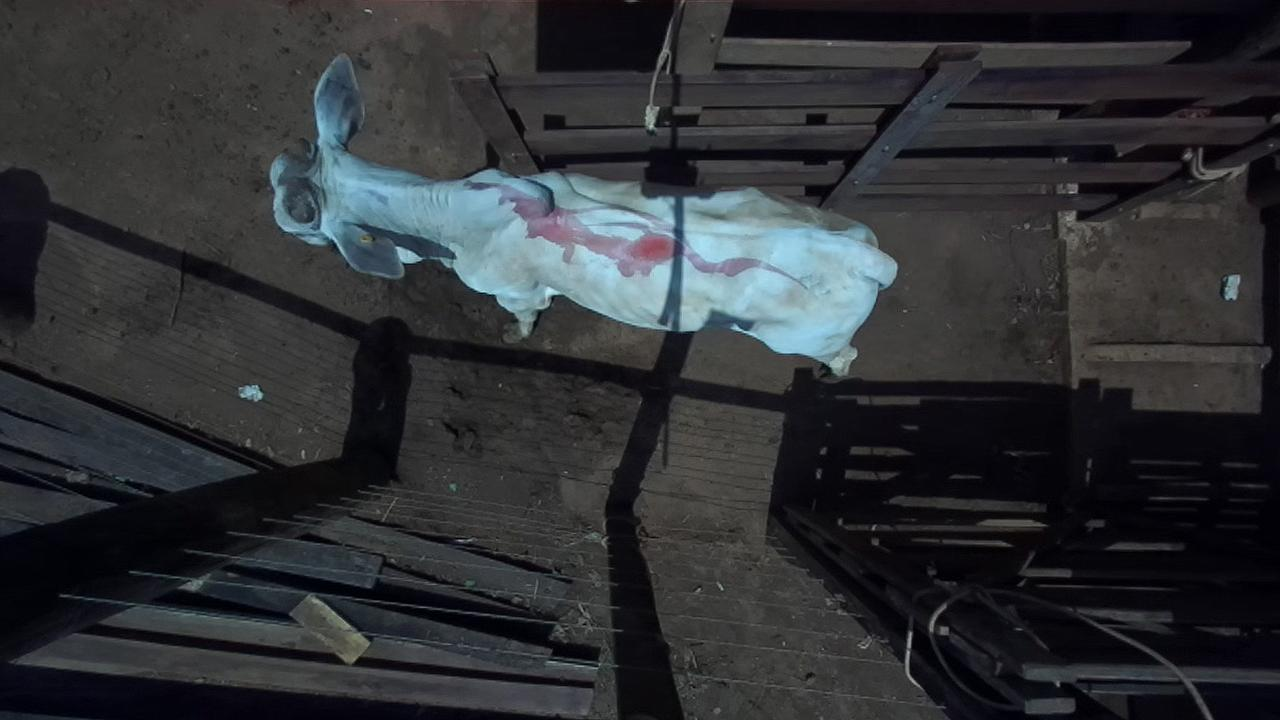cattle: (267, 51, 899, 377)
